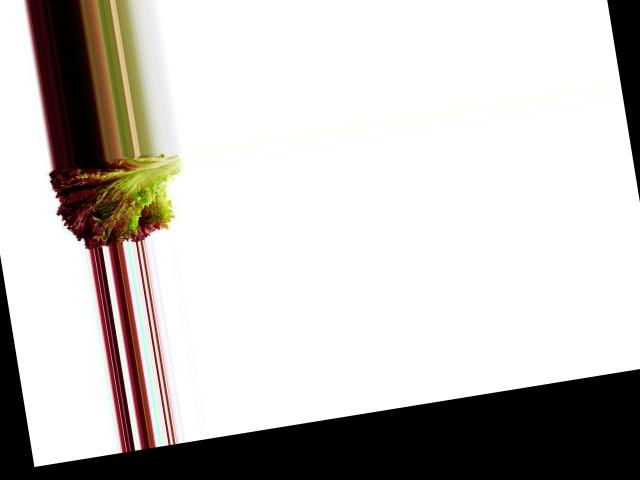lettuce: (41, 148, 195, 253)
